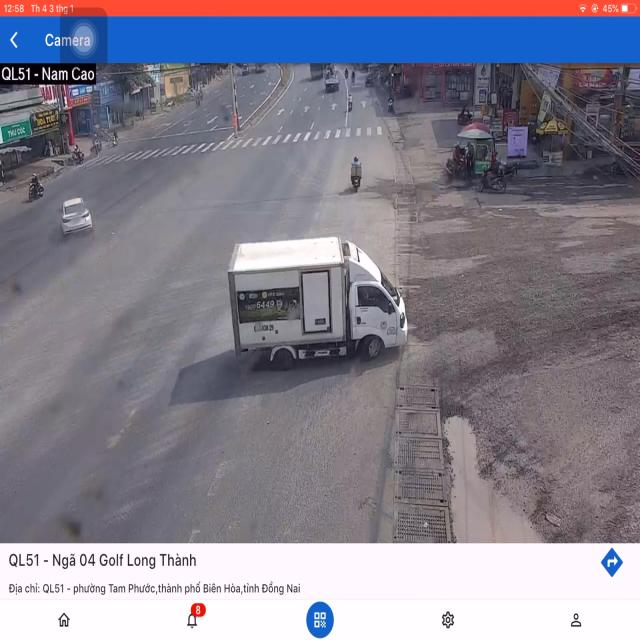car: (62, 196, 94, 238)
motorbike: (27, 168, 45, 203), (349, 154, 363, 195)
truck: (226, 235, 407, 372)
